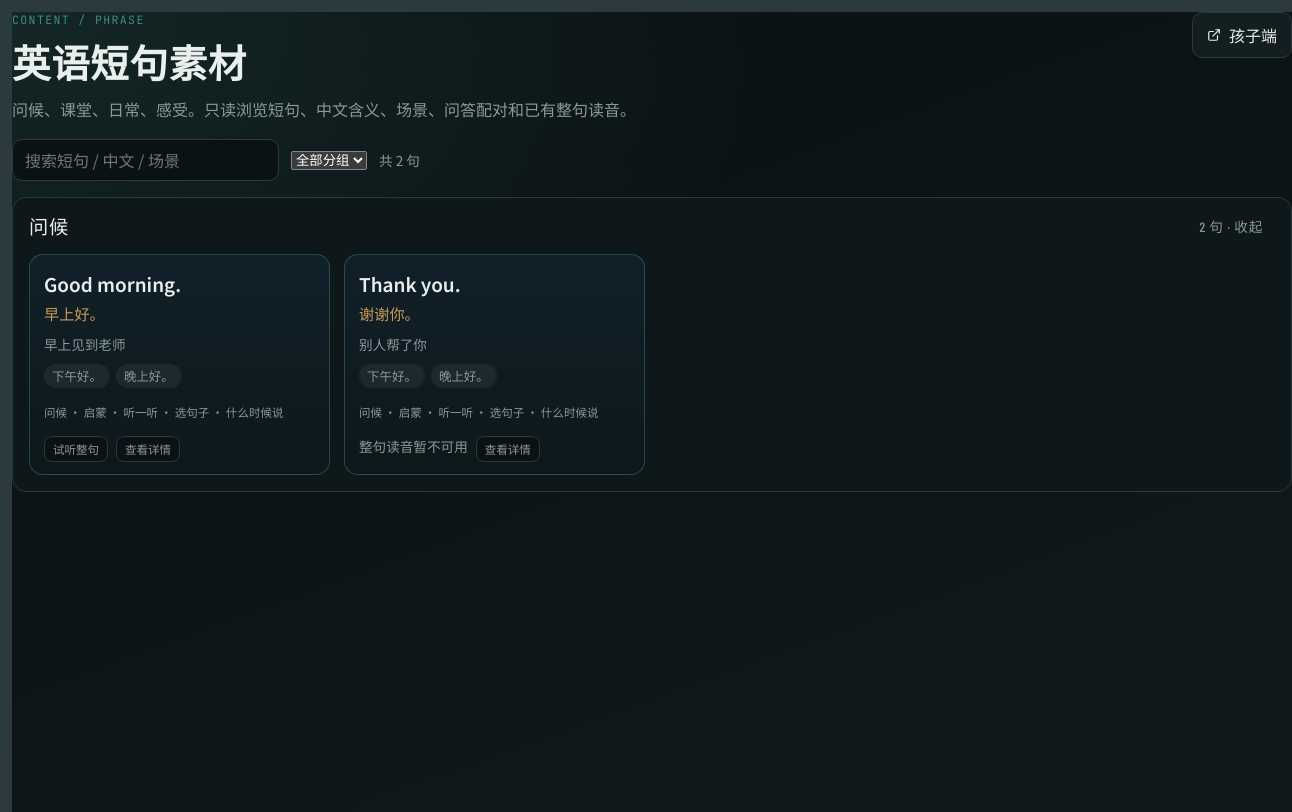
PhrasePage › filters phrases by english or chinese
Check: the heading "Good morning." is shown, box [44,270,181,297]
Check: the heading "Thank you." is shown, box [359,270,461,297]
Type "谢谢" into the field with placeholder "搜索短句 / 中文 / 场景" at (146, 160), box [12,139,279,181]
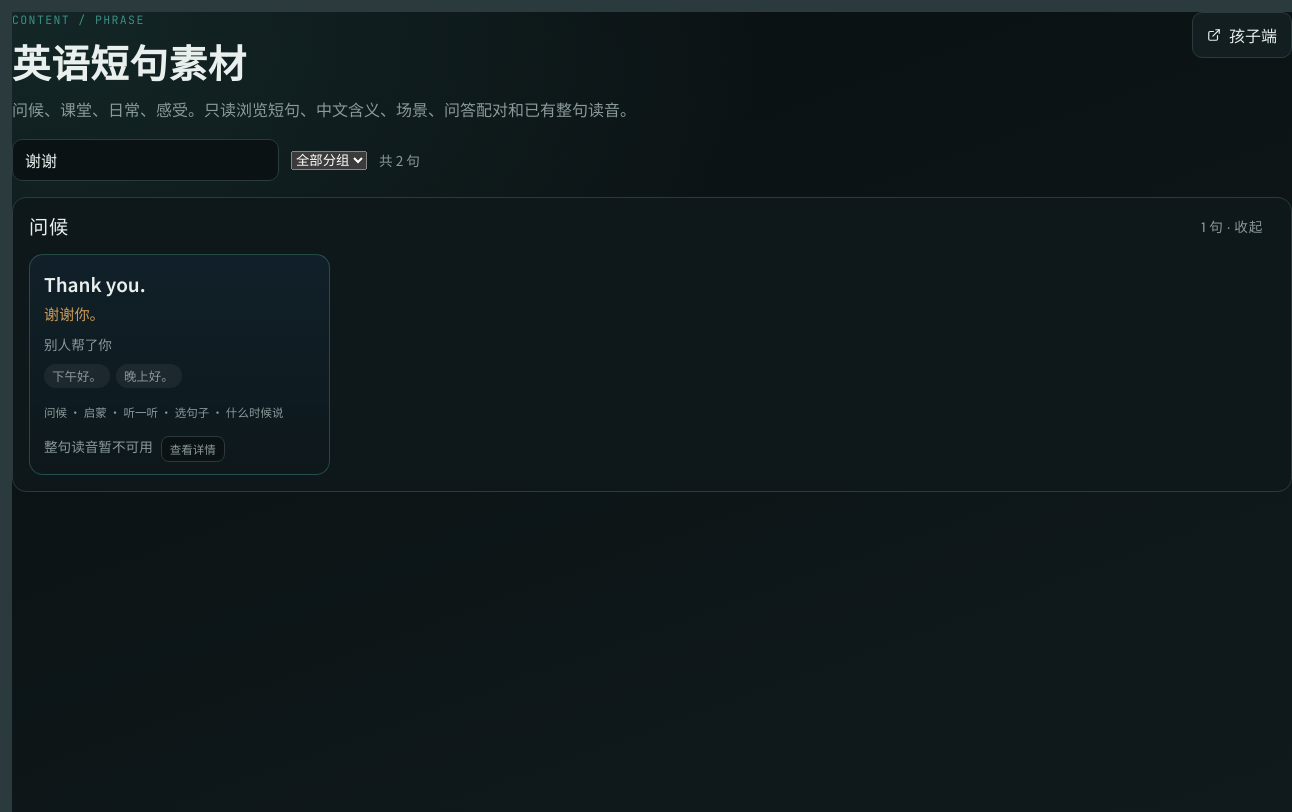
Check: the heading "Thank you." is shown, box [44,270,146,297]
Check: the heading "Good morning." is gone
